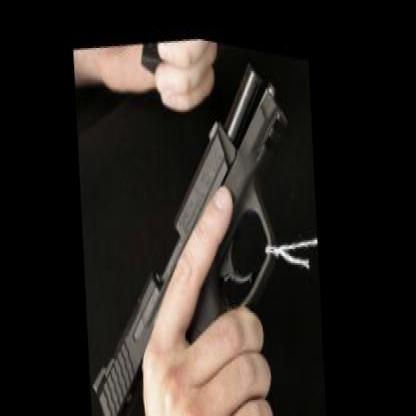pistol: (63, 14, 319, 411)
